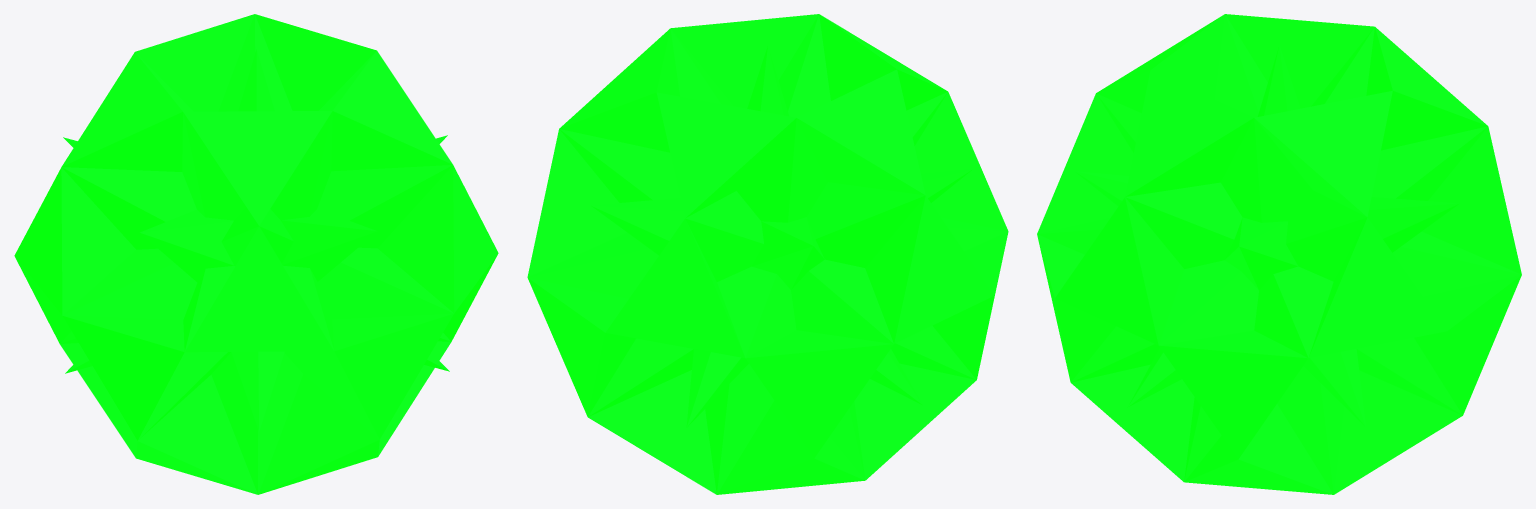
File: seeddrop1.dae
The picture shows the model from 3 angles, left to right: view 1: azimuth 30°, elevation 25°; view 2: azimuth 150°, elevation 25°; view 3: azimuth 270°, elevation 25°; orthographic projection. The views are drawn at different scales.
Visible parts, largest first — view 1: Icosphere; view 2: Icosphere; view 3: Icosphere.
Boxes of the visible parts, x1=… form: Icosphere: x1=14, y1=14, x2=498, y2=494; Icosphere: x1=527, y1=14, x2=1008, y2=494; Icosphere: x1=1037, y1=14, x2=1521, y2=494.
Bounding box in the file's own units: 0.2199 × 0.2073 × 0.2172.
